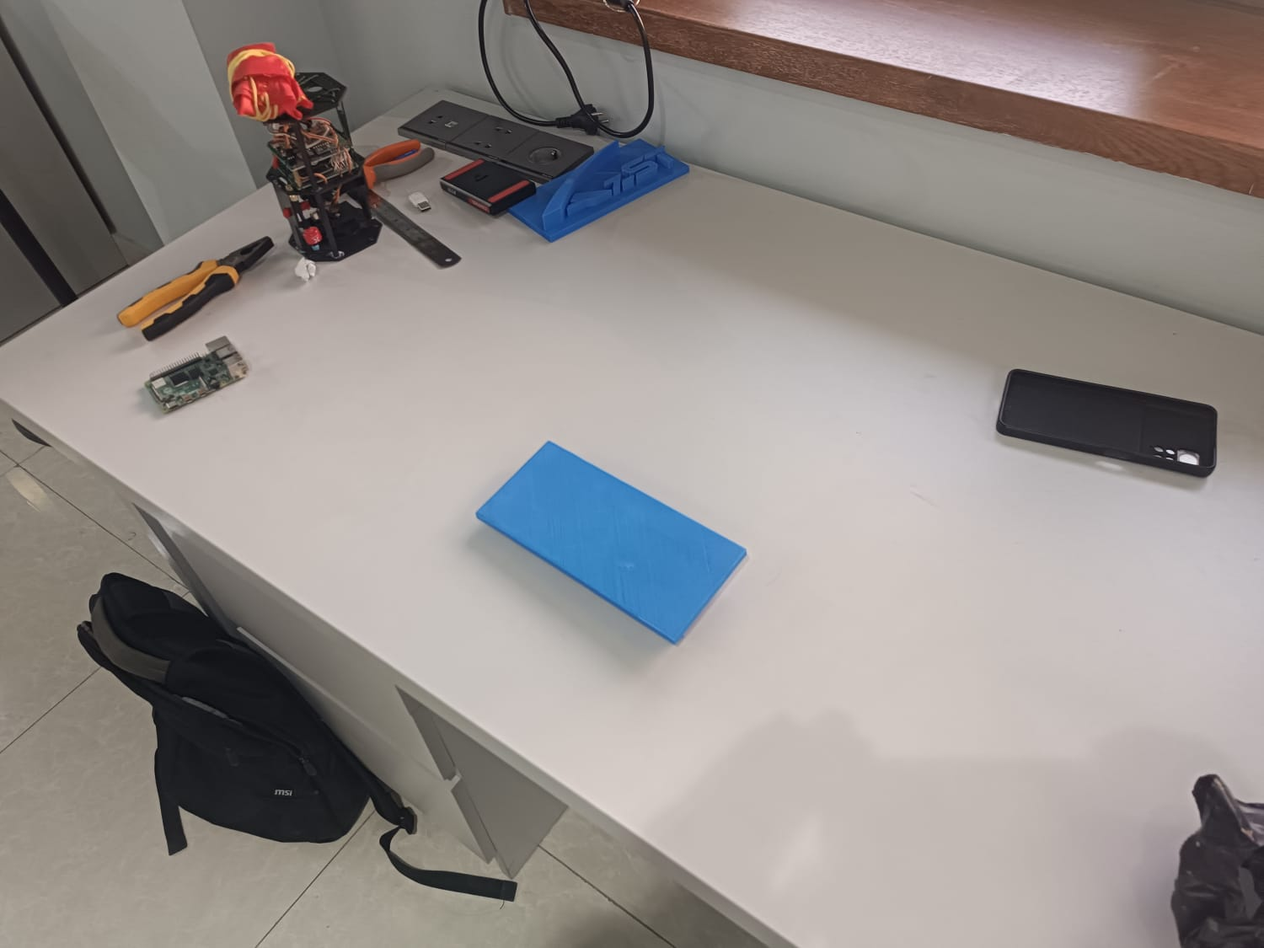Rectangular: (471, 436, 755, 648)
